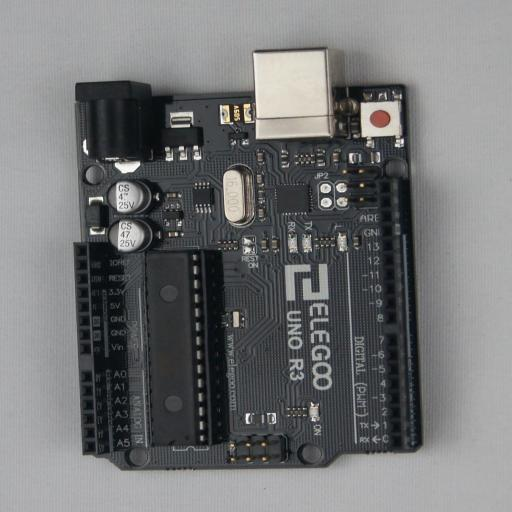Arduino Uno -Black-: (73, 46, 431, 470)
